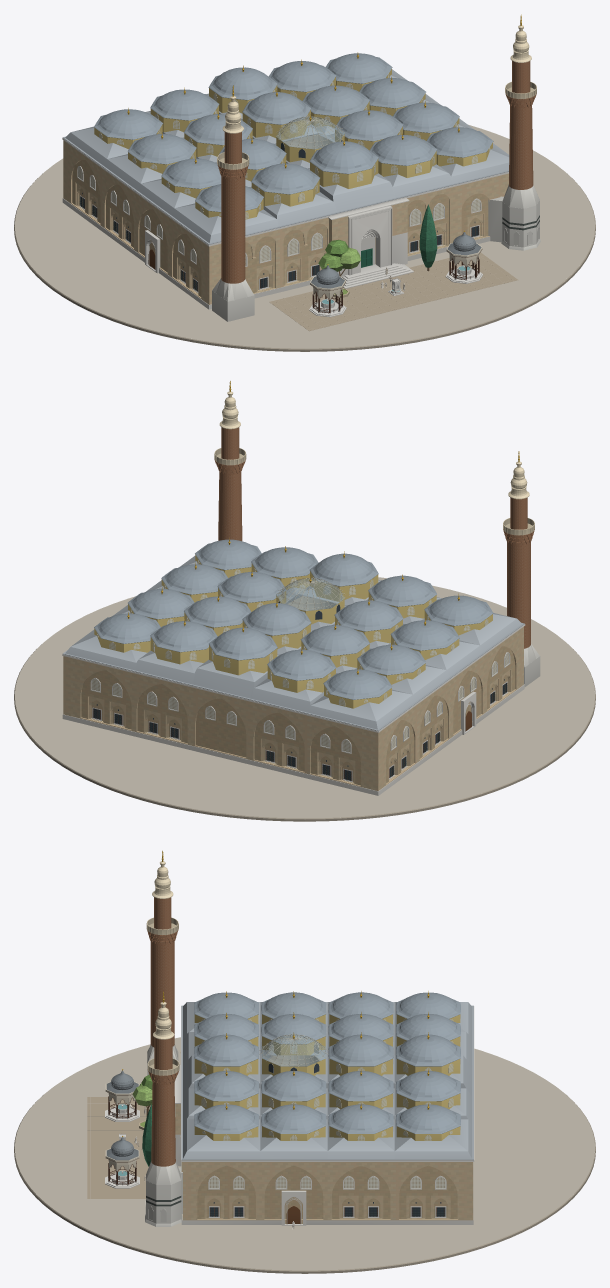
The model's file is ulu-cami_v25_sunum.glb.
3 views of the same model, one above another, from view 1: azimuth 30°, elevation 25°; view 2: azimuth 150°, elevation 25°; view 3: azimuth 270°, elevation 25° (orthographic).
Parts seen in each view (by area): view 1: Kubbeler_19, Zemin_Kaide, Cati, Cephe_Kuzey, Cephe_Dogu, Minare_1, Zemin_Avlu_Tas, Minare_2, Pencere_Girintileri, Tac_Kapi, Sadirvan_Kubbe, Giris_Cikintili_Blok (+10 smaller); view 2: Zemin_Kaide, Kubbeler_19, Cephe_Guney, Cati, Cephe_Dogu, Pencere_Girintileri, Minare_2, Minare_1, Mermer_Bant, Sadirvan_Kubbe, Kasnak_Pencereleri, Silme_Ust (+2 smaller); view 3: Zemin_Kaide, Kubbeler_19, Cephe_Bati, Cati, Minare_1, Zemin_Avlu_Tas, Minare_2, Pencere_Girintileri, Sadirvan_Kubbe, Kasnak_Pencereleri, Mermer_Bant, Avlu_Sadirvan_Bati (+5 smaller).
Boxes of the visible parts, box(x1,y1,x2,y2) form: Kubbeler_19: box(94, 53, 493, 219); Zemin_Kaide: box(14, 124, 595, 351); Cati: box(62, 69, 509, 244); Cephe_Kuzey: box(208, 173, 508, 304); Cephe_Dogu: box(64, 141, 208, 304); Minare_1: box(488, 14, 540, 250); Zemin_Avlu_Tas: box(269, 252, 517, 331); Minare_2: box(212, 85, 254, 321); Pencere_Girintileri: box(76, 182, 484, 295); Tac_Kapi: box(342, 206, 413, 288); Sadirvan_Kubbe: box(276, 117, 344, 162); Giris_Cikintili_Blok: box(328, 198, 409, 277); Zemin_Kaide: box(14, 577, 595, 821); Kubbeler_19: box(94, 539, 493, 708); Cephe_Guney: box(63, 656, 378, 790); Cati: box(63, 556, 524, 731); Cephe_Dogu: box(379, 627, 523, 790); Pencere_Girintileri: box(87, 669, 511, 783); Minare_2: box(503, 451, 540, 686); Minare_1: box(214, 381, 246, 541); Mermer_Bant: box(62, 684, 524, 795); Sadirvan_Kubbe: box(276, 578, 344, 624); Kasnak_Pencereleri: box(97, 560, 488, 706); Silme_Ust: box(62, 624, 525, 732); Zemin_Kaide: box(14, 1037, 595, 1273); Kubbeler_19: box(194, 992, 460, 1140); Cephe_Bati: box(183, 1162, 471, 1223); Cati: box(181, 1002, 473, 1160); Minare_1: box(145, 991, 182, 1226); Zemin_Avlu_Tas: box(87, 1097, 150, 1198); Minare_2: box(146, 850, 178, 1075); Pencere_Girintileri: box(204, 1195, 450, 1218); Sadirvan_Kubbe: box(261, 1035, 325, 1075); Kasnak_Pencereleri: box(201, 1014, 460, 1140); Mermer_Bant: box(181, 1162, 473, 1224); Avlu_Sadirvan_Bati: box(105, 1136, 139, 1188).
Size of the model in its own units: 111 by 48.52 by 111.
Materials: 45 (10 with a texture image).
